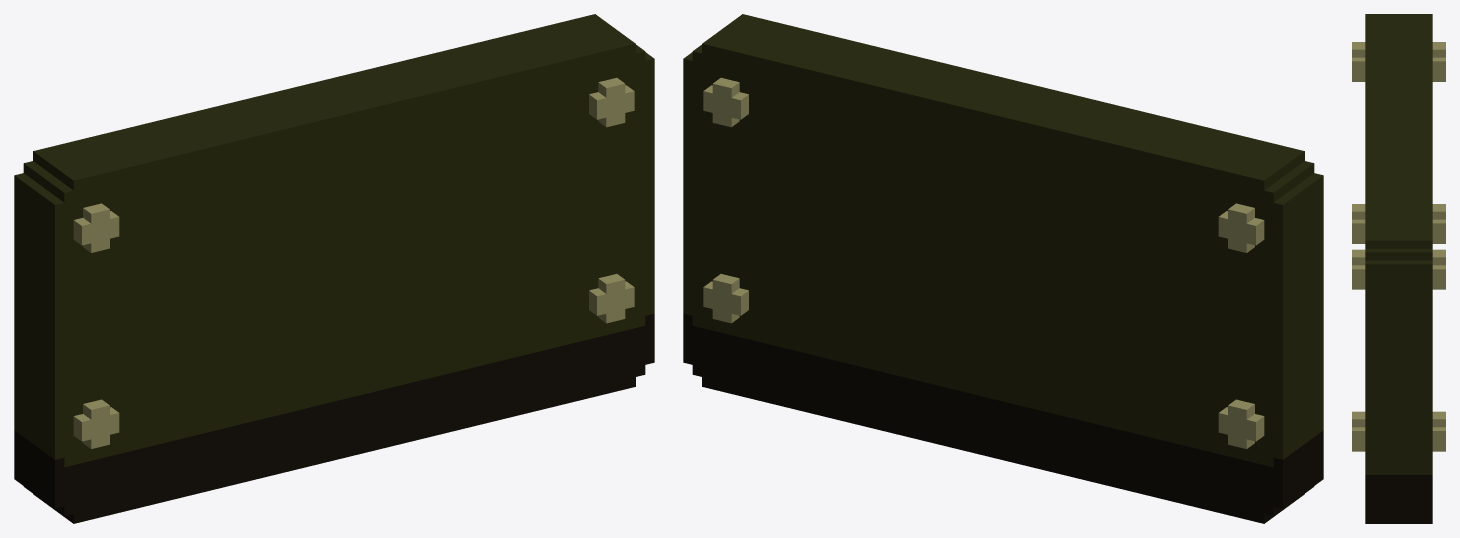
Rendered from radar_base_dort.fbx.
The picture shows the model from 3 angles, left to right: view 1: azimuth 30°, elevation 25°; view 2: azimuth 150°, elevation 25°; view 3: azimuth 270°, elevation 25°; orthographic projection. The views are drawn at different scales.
Parts seen in each view (by area): view 1: generated; view 2: generated; view 3: generated.
Part boxes in pixels (<box>): generated: <box>14,14,654,523</box>; generated: <box>683,14,1323,523</box>; generated: <box>1352,14,1445,523</box>.
Size of the model in its own units: 640 by 350 by 105.
